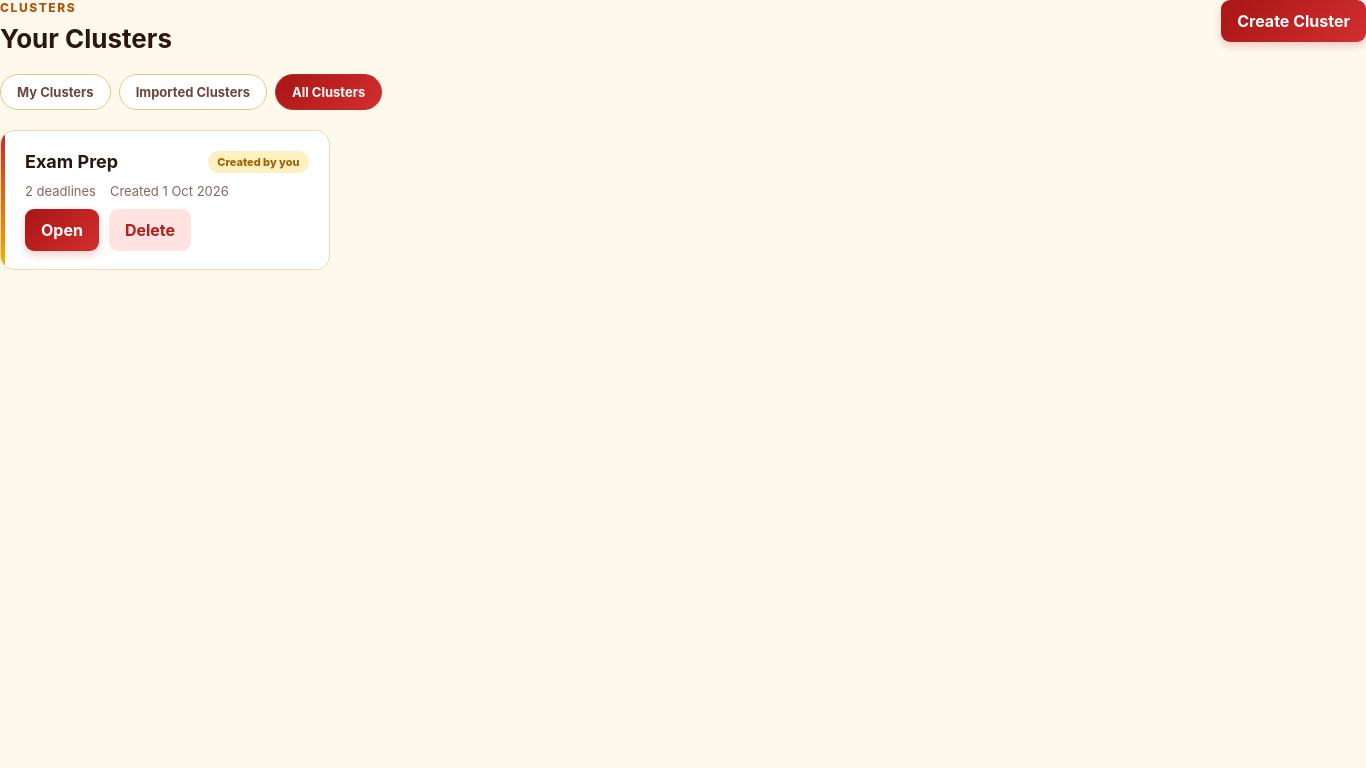
Test: Clusters page › can request removal of imported copies while deleting the source cluster
Expected: the heading "Exam Prep" is shown, [25,151,118,172]
Click the button with aria-label "Delete Exam Prep" at [150, 230], box [109,209,191,251]
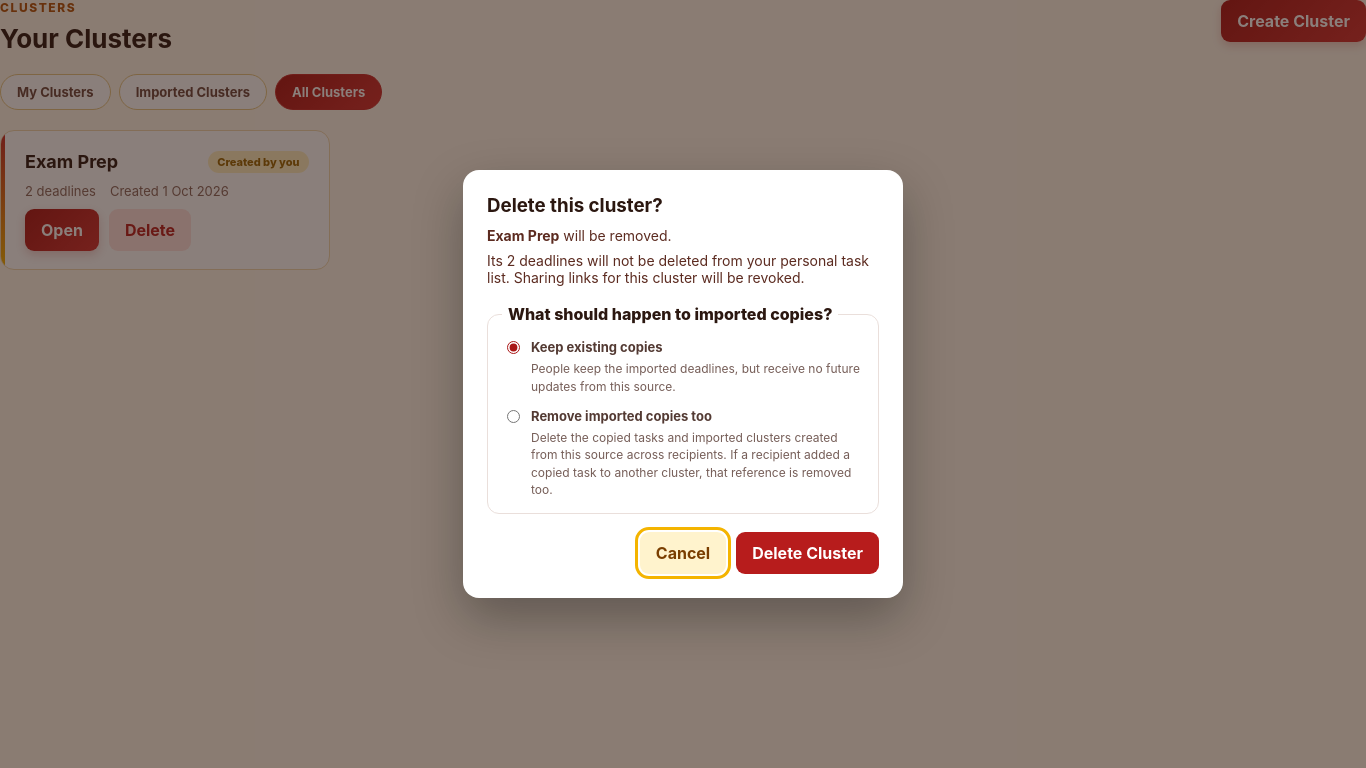
Click the radio button labelled "Remove imported copies too" at [514, 417], box [507,410,520,423]
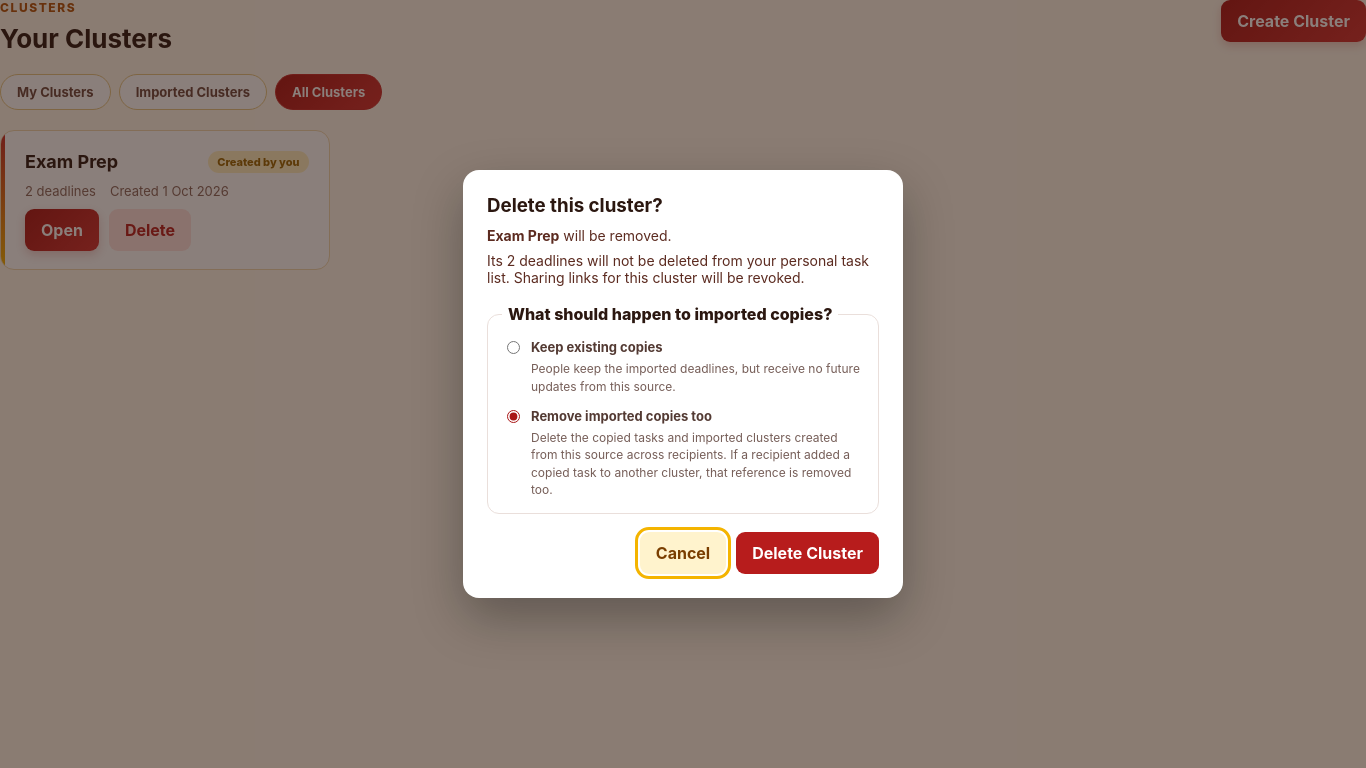
Click the button "Delete Cluster" at [808, 552], box [736,532,879,574]
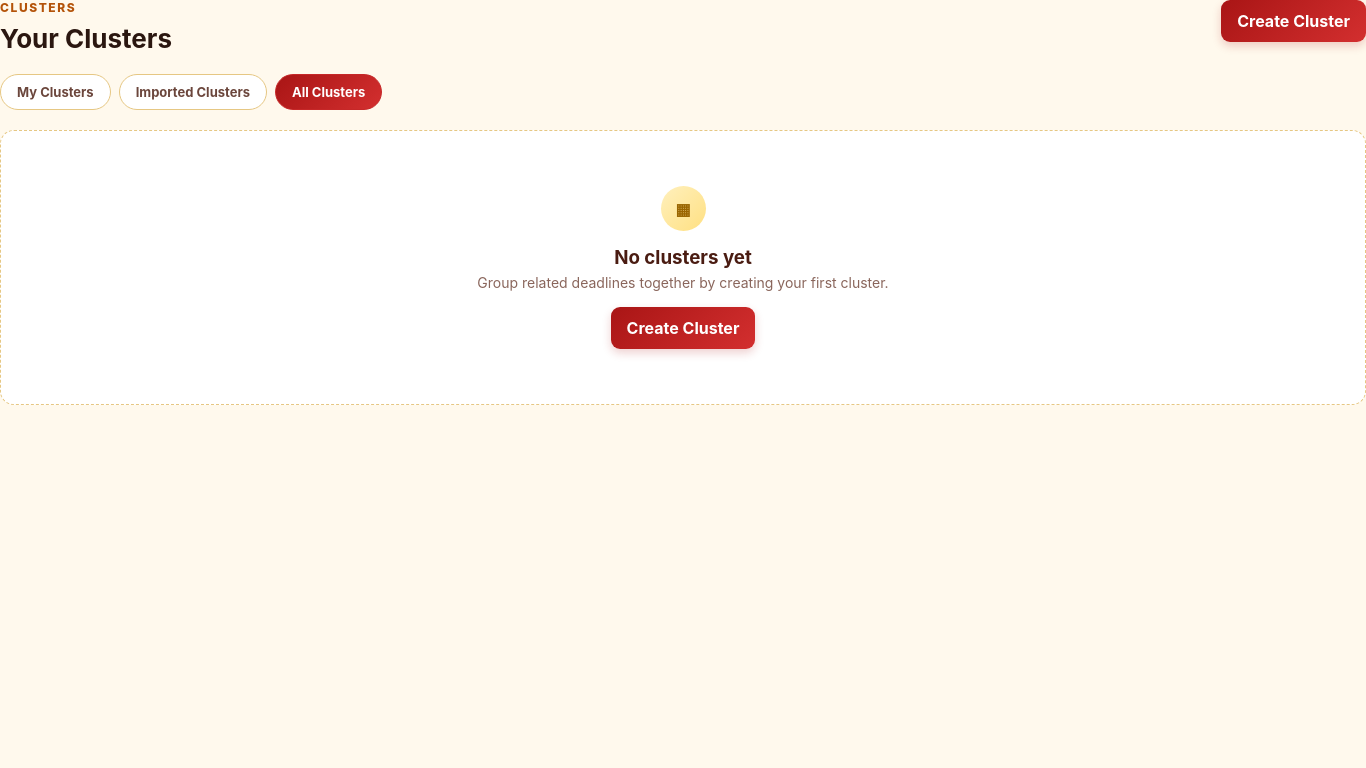
Expected: the heading "Exam Prep" is gone
